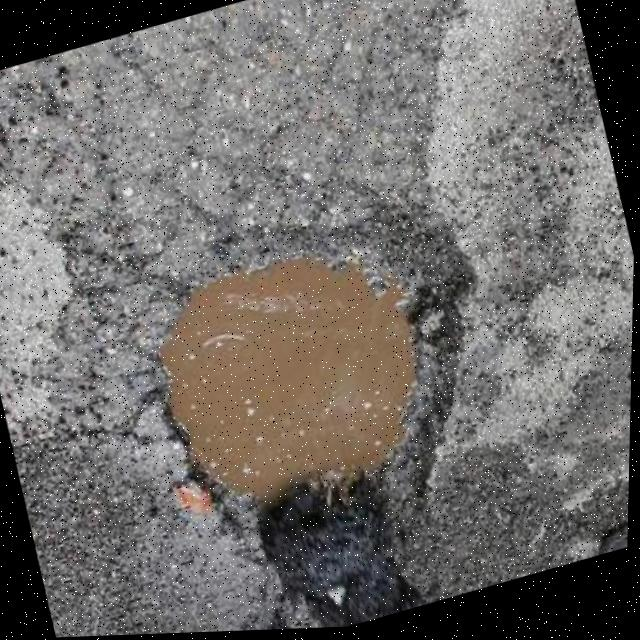Pothole: (110, 156, 539, 608)
